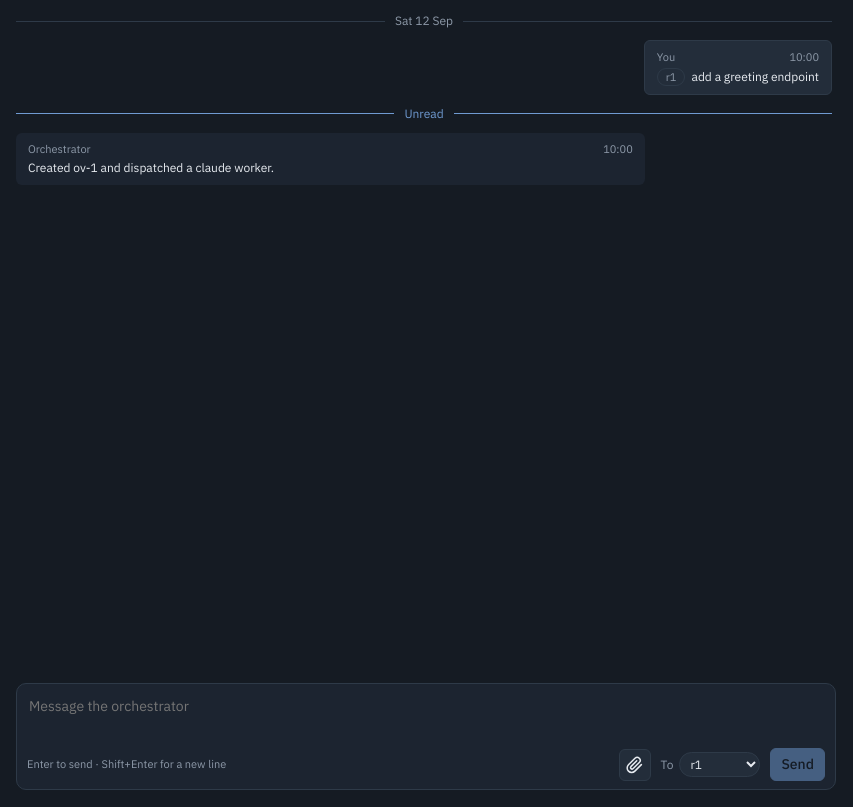
Test case: Chat › enables the composer on the POST response while its thread refresh is pending
expect the text "Created ov-1 and dispatched a claude worker." is shown: met, box [28,160,274,175]
Type "first message" into the text box with placeholder "Message the orchestrator" at x=426, y=717, box [27,692,825,742]
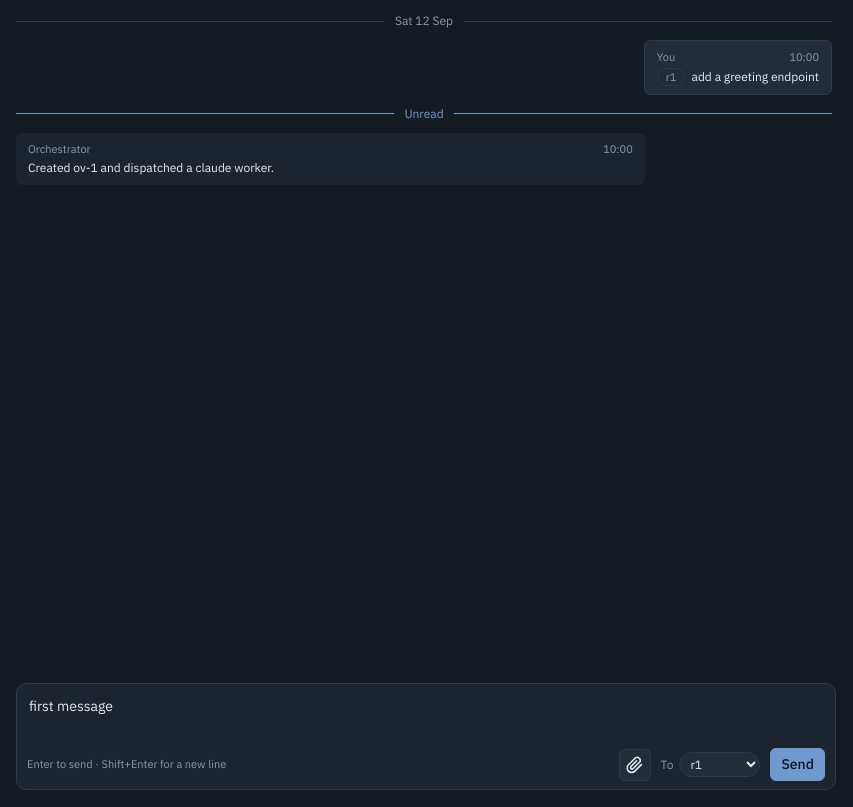
Click the button "Send" at x=798, y=764, box [770,748,825,781]
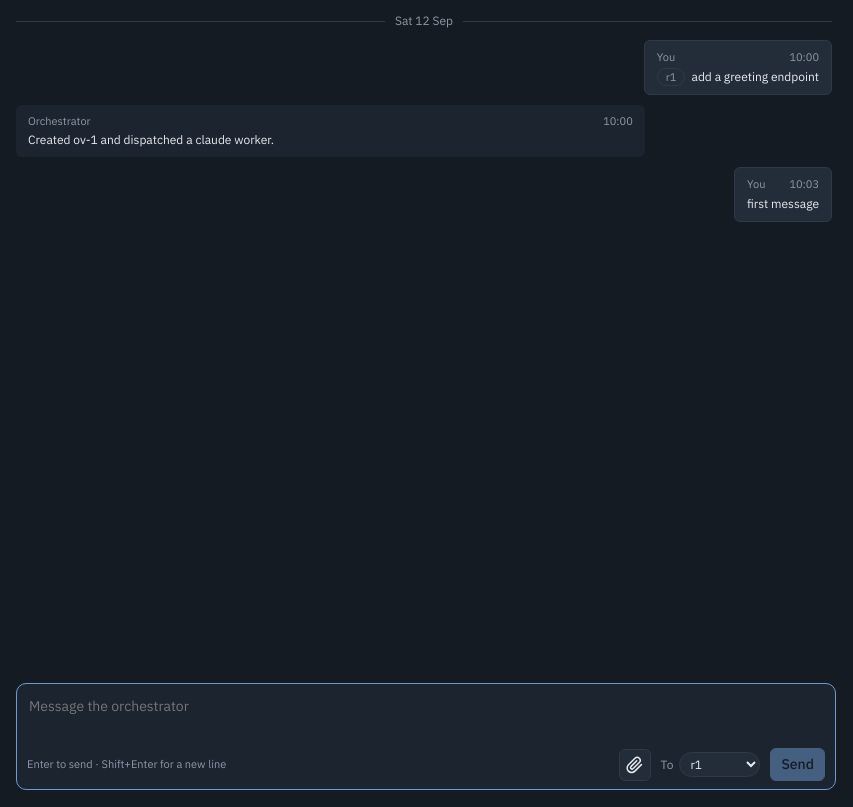
expect the text box with placeholder "Message the orchestrator" is enabled: met, box [27,692,825,742]
expect the text box with placeholder "Message the orchestrator" is empty: met, box [27,692,825,742]
expect the text "first message" is shown: met, box [747,194,819,212]
